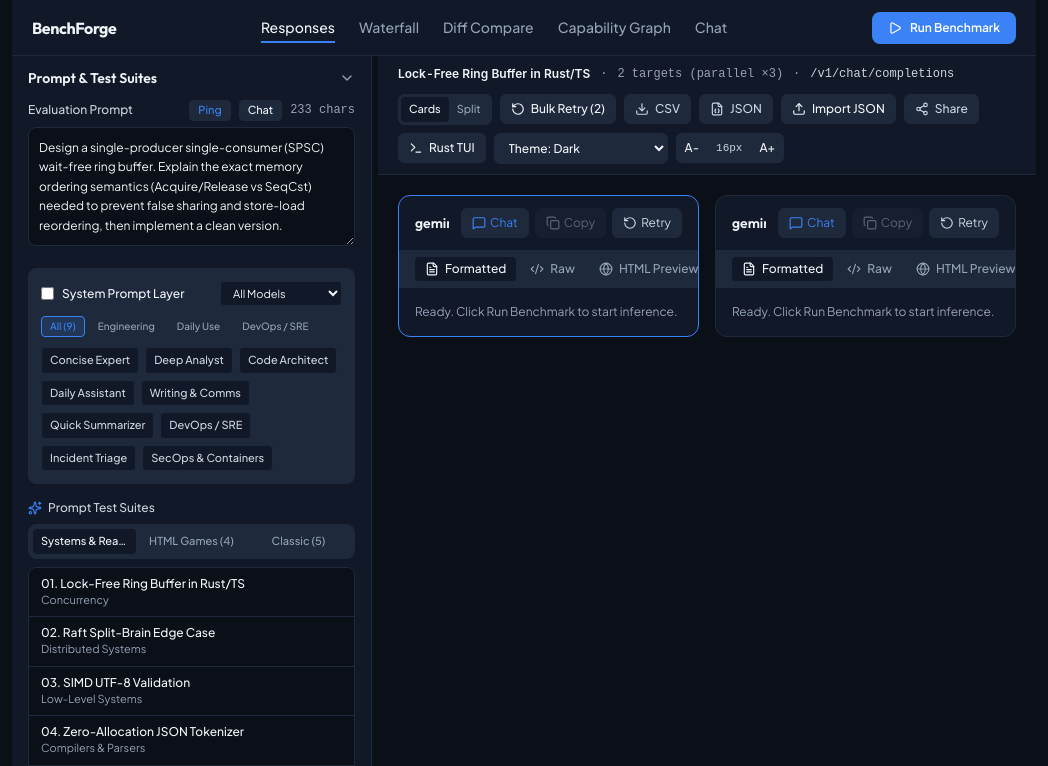
Test case: Extended Coverage Suite (50+ Target) › navigates between top bar workspace views in App
Click the button "Waterfall": (389, 28) top-left (359, 12), bottom-right (419, 42)
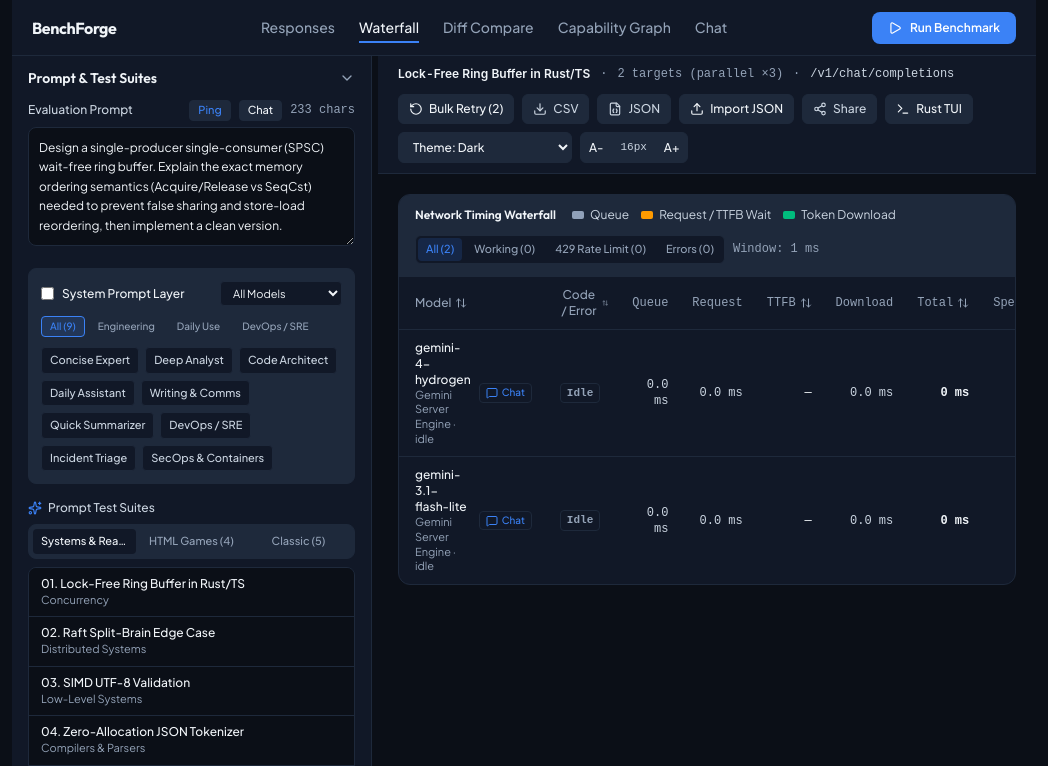
expect the text "Network Timing Waterfall" is shown: met, box top-left (415, 207), bottom-right (556, 223)
Click the button "Diff Compare": (488, 28) top-left (443, 12), bottom-right (534, 42)
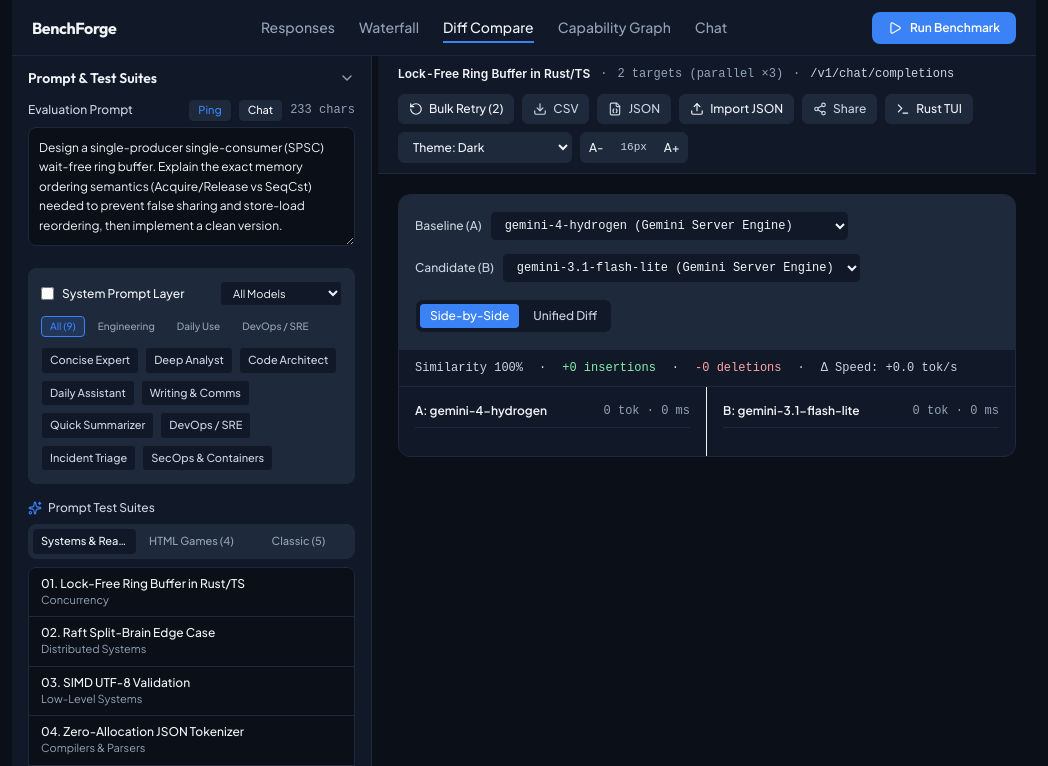
expect the text "Baseline (A)" is shown: met, box top-left (415, 218), bottom-right (482, 234)
Click the button "Capability Graph": (614, 28) top-left (558, 12), bottom-right (671, 42)
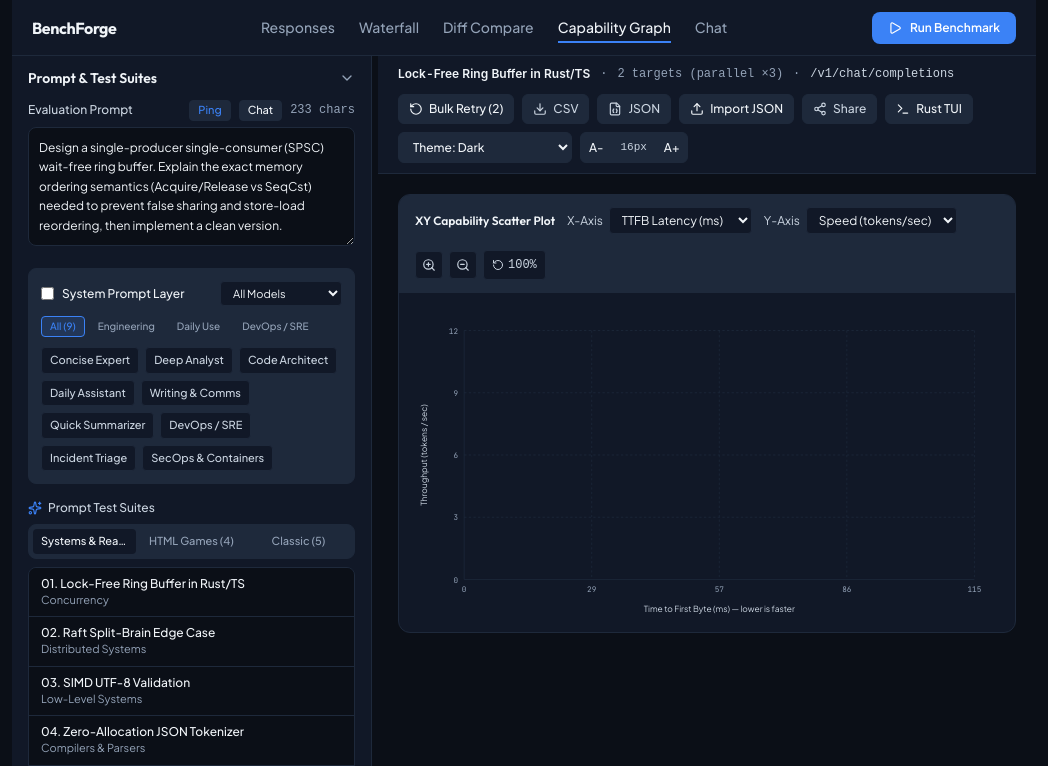
expect the text "XY Capability Scatter Plot" is shown: met, box top-left (415, 212), bottom-right (555, 228)
